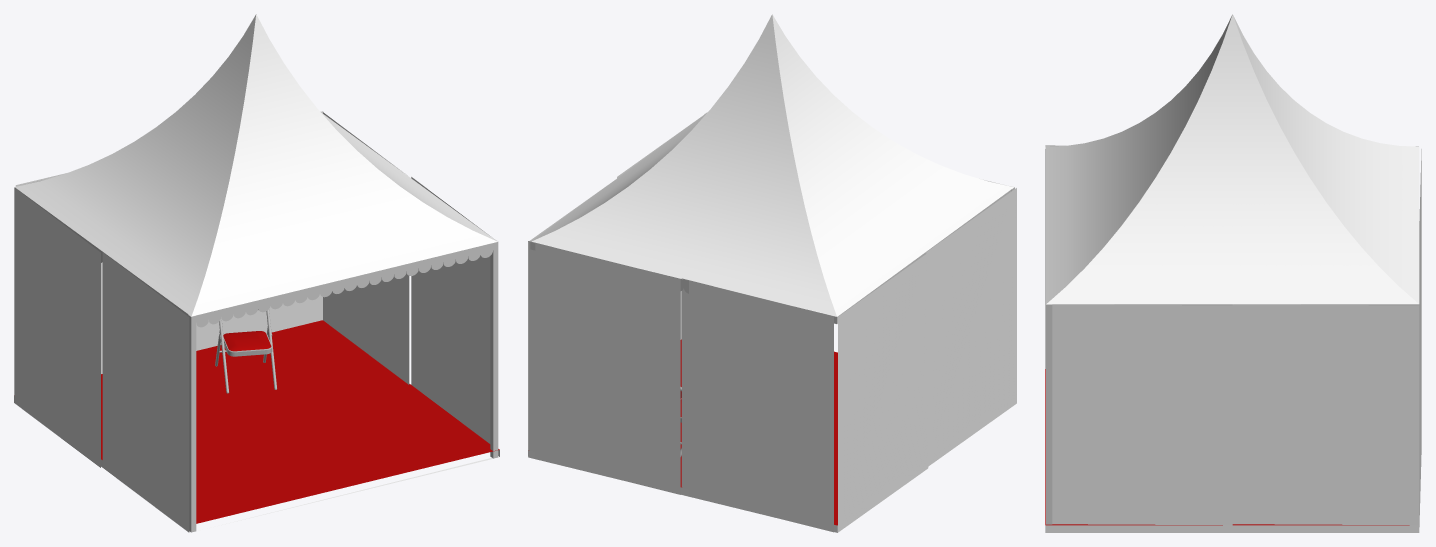
File: Tent.fbx
3 renders of one model, left to right at view 1: azimuth 30°, elevation 25°; view 2: azimuth 150°, elevation 25°; view 3: azimuth 270°, elevation 25°, orthographic. The views are drawn at different scales.
Visible parts, largest first — view 1: Tent_Top, Main_Tent, Ground, Edges, Chairs, Chair_Seats; view 2: Main_Tent, Tent_Top, Ground, Edges; view 3: Main_Tent, Tent_Top, Edges, Ground.
Part boxes in pixels (x1,y1,x2,y2): Tent_Top: (15, 14, 497, 316); Main_Tent: (14, 111, 499, 532); Ground: (101, 320, 499, 523); Edges: (14, 187, 498, 532); Chairs: (215, 309, 277, 393); Chair_Seats: (223, 331, 271, 351); Main_Tent: (528, 117, 1016, 532); Tent_Top: (531, 14, 1013, 316); Ground: (680, 339, 837, 525); Edges: (530, 112, 1014, 323); Main_Tent: (1045, 145, 1421, 532); Tent_Top: (1046, 14, 1419, 304); Edges: (1045, 146, 1419, 524); Ground: (1045, 369, 1409, 525).
Bounding box in the file's own units: 304 × 389 × 302.
